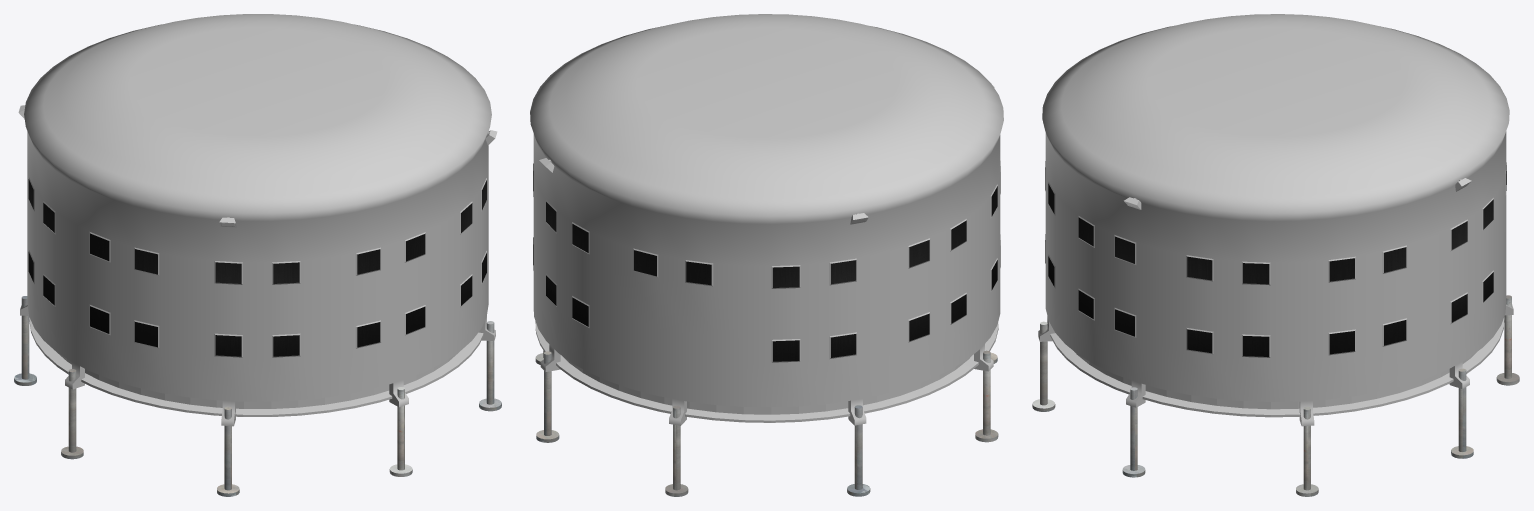
File: Habitat6.fbx
3 views of the same model, side by side, from view 1: azimuth 30°, elevation 25°; view 2: azimuth 150°, elevation 25°; view 3: azimuth 270°, elevation 25° (orthographic).
Visible parts, largest first — view 1: Habitat6; view 2: Habitat6; view 3: Habitat6.
Boxes of the visible parts, <box> form: Habitat6: <box>14,14,501,496</box>; Habitat6: <box>530,14,1003,496</box>; Habitat6: <box>1032,14,1519,496</box>.
Bounding box in the file's own units: 975 × 689 × 975.
